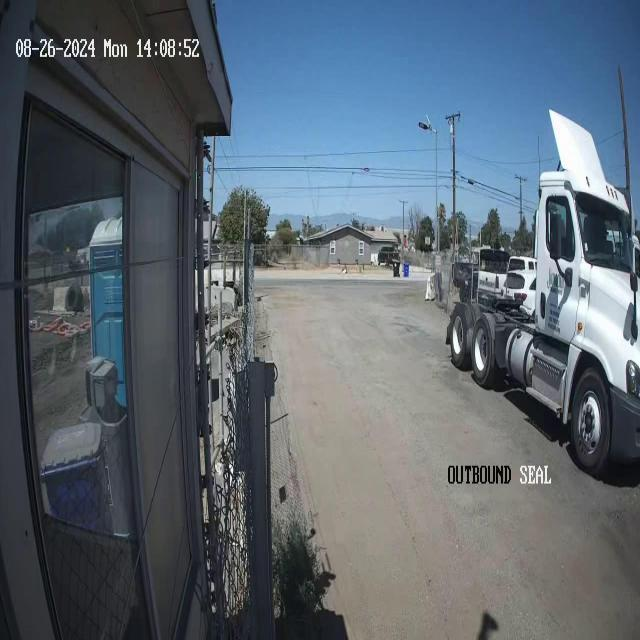TRUCK_IN: (445, 67, 639, 480)
